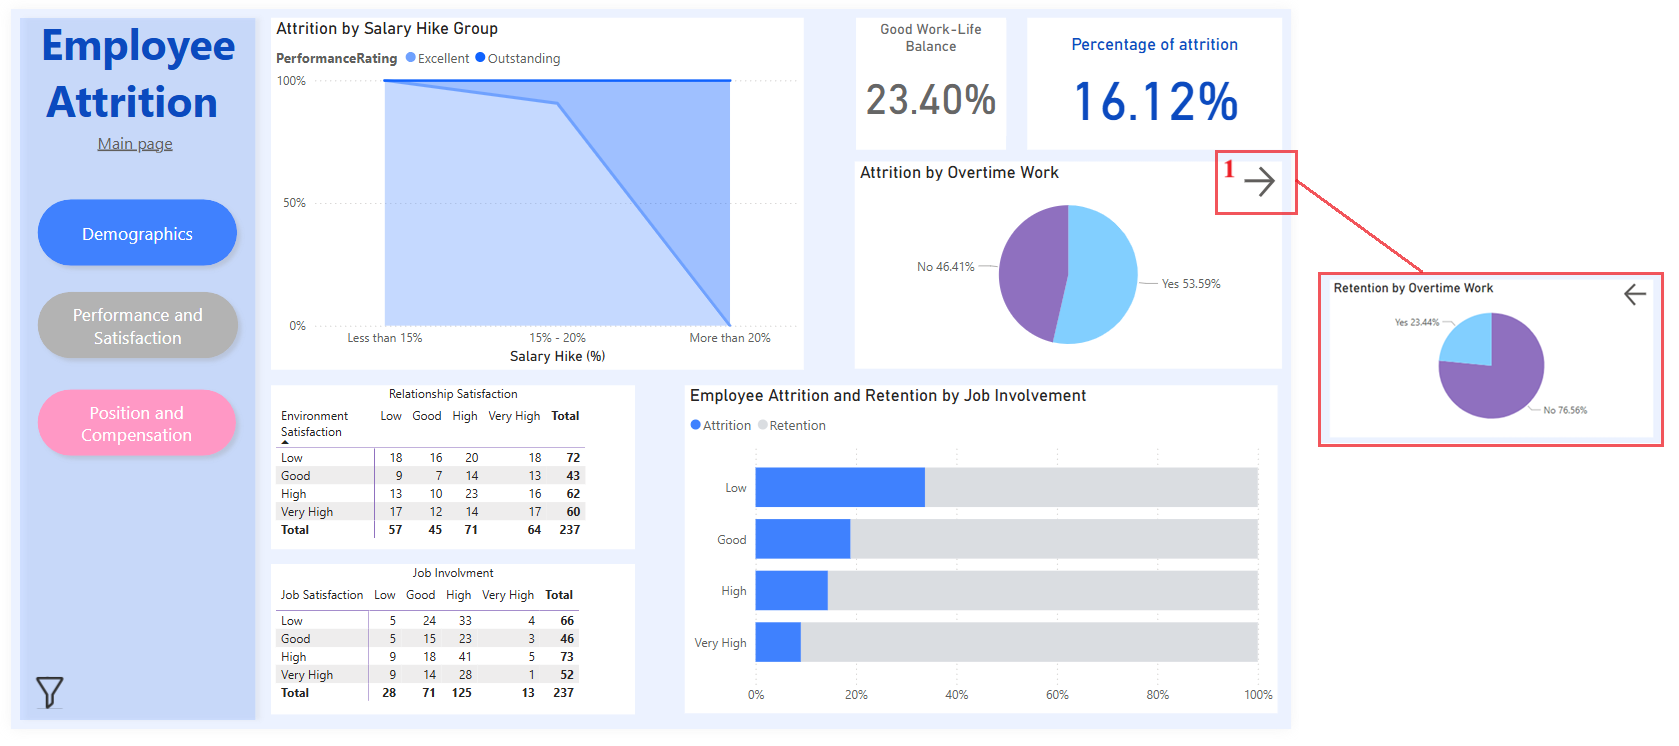

This screenshot's page, from the dashboard's own definition file:
{"tool":"powerbi","page":{"name":"Performance","canvas":[1280,720],"ordinal":2},"visuals":[{"type":"shape","title":"shapeRectangleLeftBackground","box":[0,0,253.3,720],"z":0},{"type":"textbox","title":"txtEmployeeAttrition","box":[0,0,253.6,129.4],"z":1000},{"type":"actionButton","title":"btnFiltering","box":[19,664,49,40],"z":2000},{"type":"shape","title":"btnCompensationPage","box":[18,371,216.5,84.6],"z":4000},{"type":"shape","title":"btnPerformancePage","box":[16.9,274,218.8,84.6],"z":5000},{"type":"shape","title":"btnProfilePage","box":[18,181.6,217.7,84.6],"z":6000},{"type":"actionButton","title":"btnMainPage","box":[73.8,112.7,100.6,40.3],"z":7000},{"type":"shape","title":"CardBackground2","box":[1016.1,9,254.9,131.9],"z":9000},{"type":"card","title":"Percentage of attrition","fields":{"Values":["Attrition.AttritionPercentage"]},"box":[1016.1,24.8,254.9,101.5],"z":10000},{"type":"hundredPercentStackedAreaChart","title":"Employees by Salary Hike Group ","fields":{"Category":["Compensation.SalaryHike_Range"],"Series":["Performance.PerformanceRating"],"Y":["MeasuresTable.EmployeeCount"]},"box":[260.3,8.8,533.1,351.7],"z":11000},{"type":"hundredPercentStackedBarChart","title":"Employee Attrition and Retention by Job Involvement","fields":{"Y":["Attrition.AttritionCount","Attrition.RetentionCount"],"Category":["Performance.JobInvolvement"]},"box":[673.3,376.7,593.2,327.9],"z":12000},{"type":"pivotTable","title":"Job Involvment","fields":{"Columns":["Performance.JobInvolvement"],"Rows":["Performance.JobSatisfaction"],"Values":["Attrition.AttritionCount"]},"box":[260.3,554.4,364.2,150.2],"z":13000},{"type":"pivotTable","title":"Relationship Satisfaction","fields":{"Values":["Attrition.AttritionCount"],"Rows":["Performance.EnvironmentSatisfaction"],"Columns":["Performance.RelationshipSatisfaction"]},"box":[260.3,376.7,364.2,163.9],"z":14000},{"type":"shape","title":"CardBackground1","box":[844.4,8.9,150,132.2],"z":15000},{"type":"card","title":"Good Work-Life Balance","fields":{"Values":["MeasuresTable.GoodWorkLifeBalancePercentage"]},"box":[845,11.7,150,115],"z":16000},{"type":"pieChart","title":"Attrition by Overtime Work","fields":{"Category":["Performance.OverTime"],"Y":["MeasuresTable.AttritionCount"]},"box":[844.2,152.5,427.5,207.5],"z":17000},{"type":"actionButton","title":"btnPieChart_Right","box":[1227.4,152.9,52.3,40.7],"z":19000}]}

Visuals, with their boxes on the page's 1280x720 design canvas (x1, y1, x2, y2). These are canvas units, not pixel positions in the 1679x746 screenshot, which may show the page scaled, cropped or inside an application window:
"shapeRectangleLeftBackground" shape: locate(0, 0, 253, 720)
"txtEmployeeAttrition" textbox: locate(0, 0, 254, 129)
"btnFiltering" actionButton: locate(19, 664, 68, 704)
"btnCompensationPage" shape: locate(18, 371, 234, 456)
"btnPerformancePage" shape: locate(17, 274, 236, 359)
"btnProfilePage" shape: locate(18, 182, 236, 266)
"btnMainPage" actionButton: locate(74, 113, 174, 153)
"CardBackground2" shape: locate(1016, 9, 1271, 141)
"Percentage of attrition" card: locate(1016, 25, 1271, 126)
"Employees by Salary Hike Group " hundredPercentStackedAreaChart: locate(260, 9, 793, 360)
"Employee Attrition and Retention by Job Involvement" hundredPercentStackedBarChart: locate(673, 377, 1266, 705)
"Job Involvment" pivotTable: locate(260, 554, 624, 705)
"Relationship Satisfaction" pivotTable: locate(260, 377, 624, 541)
"CardBackground1" shape: locate(844, 9, 994, 141)
"Good Work-Life Balance" card: locate(845, 12, 995, 127)
"Attrition by Overtime Work" pieChart: locate(844, 152, 1272, 360)
"btnPieChart_Right" actionButton: locate(1227, 153, 1280, 194)
